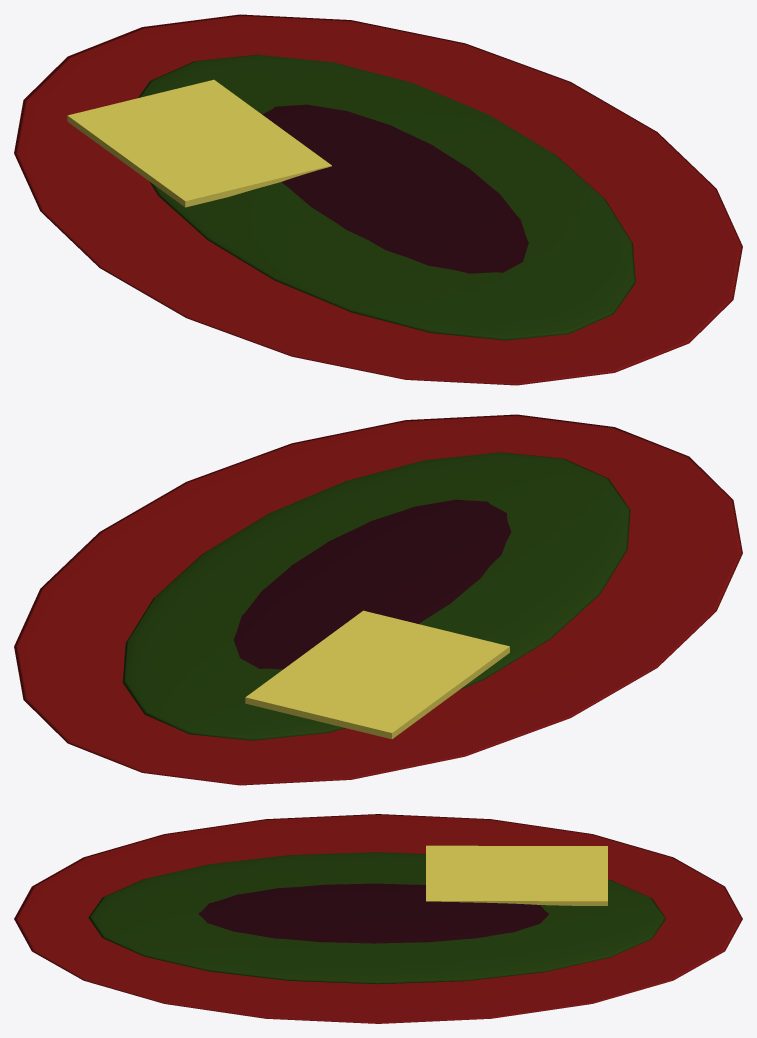
The model's file is alfombra.obj.
The picture shows the model from 3 angles, top to bottom: view 1: azimuth 30°, elevation 25°; view 2: azimuth 150°, elevation 25°; view 3: azimuth 270°, elevation 25°; orthographic projection. The views are drawn at different scales.
Visible parts, largest first — view 1: alfombra1:pSphere1, alfombra1:pSphere2, alfombra1:pSphere3, alfombra1:pCube1; view 2: alfombra1:pSphere1, alfombra1:pSphere2, alfombra1:pSphere3, alfombra1:pCube1; view 3: alfombra1:pSphere1, alfombra1:pSphere2, alfombra1:pSphere3, alfombra1:pCube1.
Boxes of the visible parts, x1=… form: alfombra1:pSphere1: x1=14, y1=14, x2=742, y2=385; alfombra1:pSphere2: x1=138, y1=54, x2=635, y2=340; alfombra1:pSphere3: x1=262, y1=104, x2=528, y2=273; alfombra1:pCube1: x1=67, y1=79, x2=331, y2=207; alfombra1:pSphere1: x1=14, y1=414, x2=742, y2=785; alfombra1:pSphere2: x1=122, y1=452, x2=630, y2=740; alfombra1:pSphere3: x1=233, y1=499, x2=511, y2=669; alfombra1:pCube1: x1=245, y1=610, x2=509, y2=739; alfombra1:pSphere1: x1=14, y1=814, x2=742, y2=1023; alfombra1:pSphere2: x1=88, y1=852, x2=665, y2=984; alfombra1:pSphere3: x1=198, y1=883, x2=548, y2=943; alfombra1:pCube1: x1=426, y1=845, x2=607, y2=905.
Size of the model in its own units: 2.39 by 0.0986 by 3.5.
4 materials, 4 textured.
